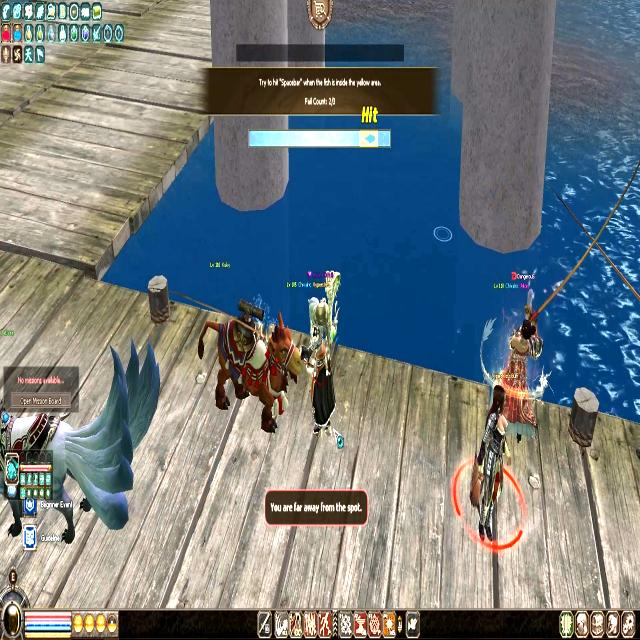fishes: (361, 132, 377, 146)
